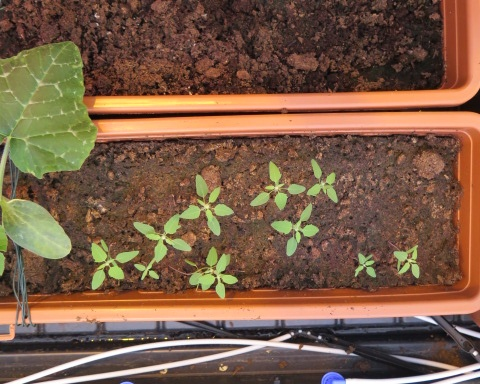weed: (179, 174, 235, 238), (266, 203, 320, 257), (132, 215, 190, 261), (250, 162, 305, 210), (186, 247, 238, 296), (88, 241, 138, 289), (306, 158, 340, 204), (393, 247, 421, 280), (353, 250, 378, 279), (135, 262, 160, 280)
